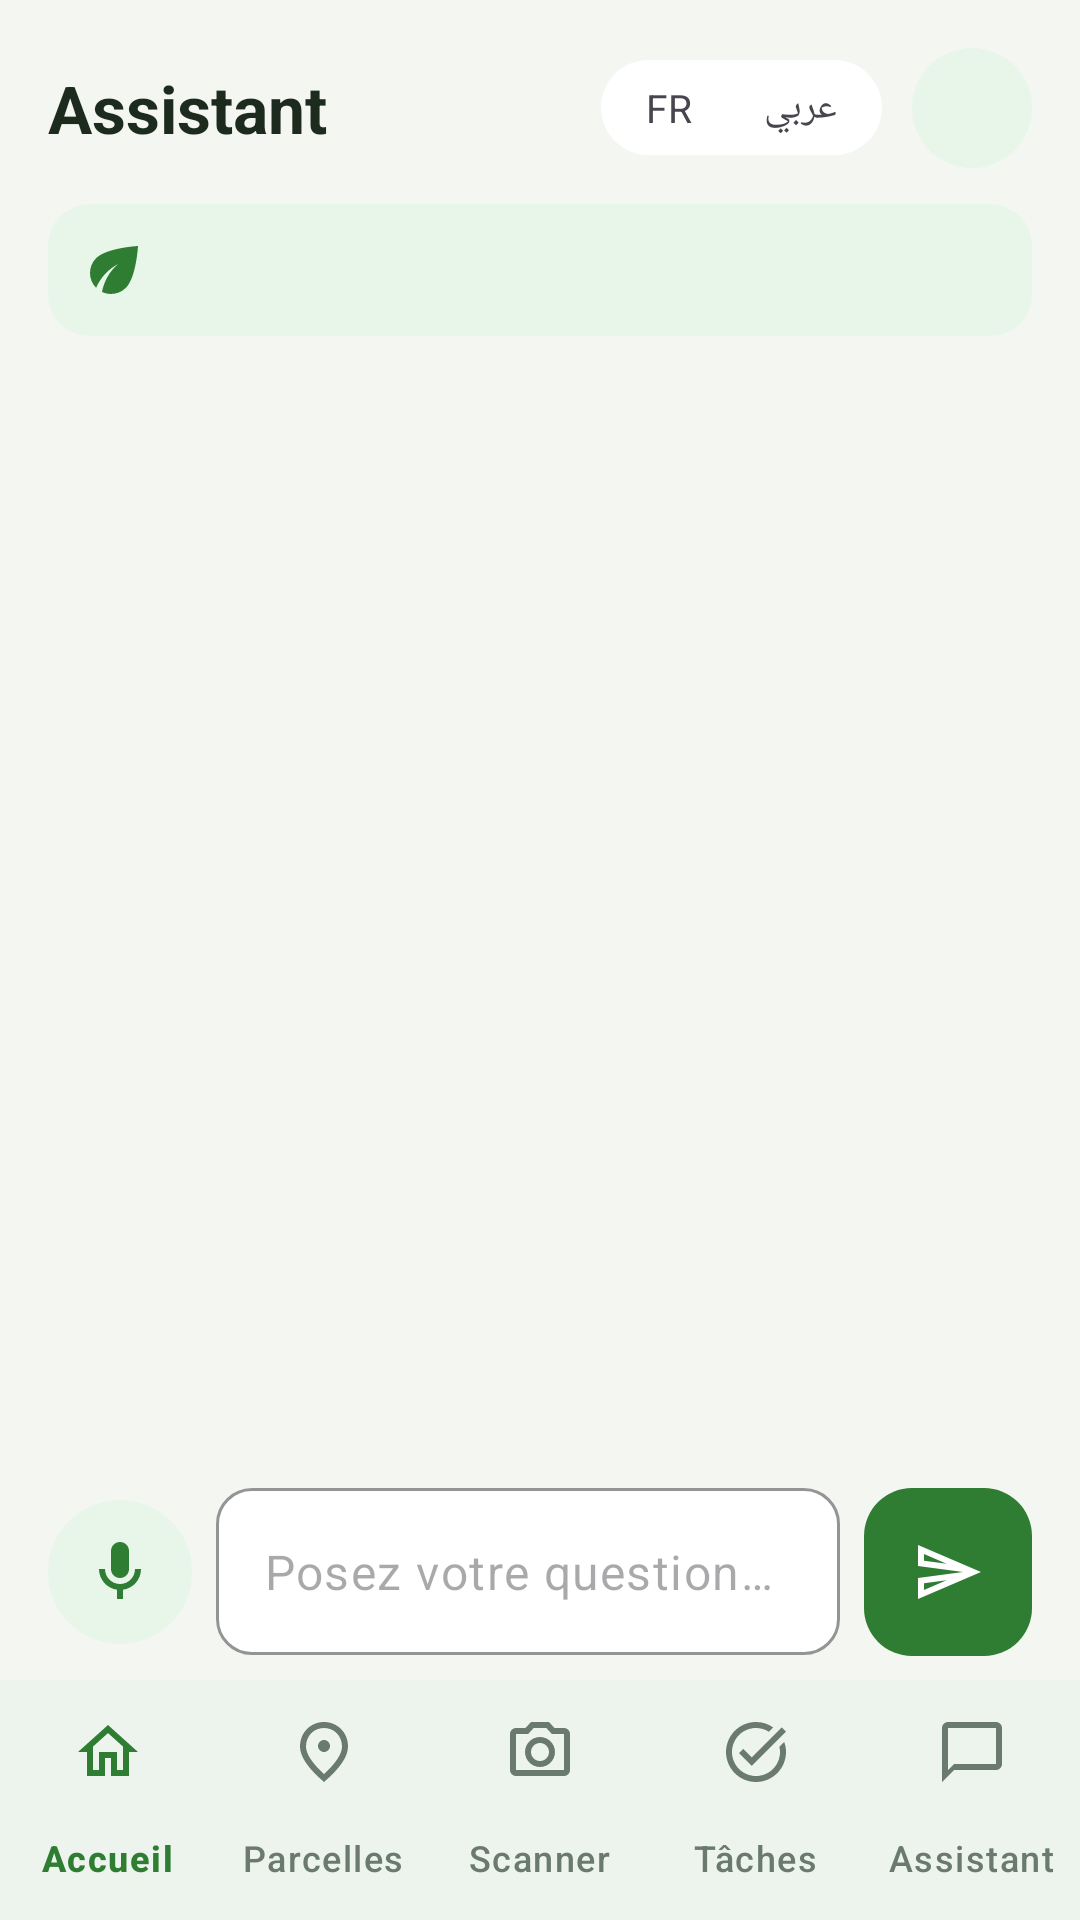

Named icons in this screenshot (1080 × 1920) and their bounding boxes, (x1, y1, x2, y2):
Envoyer: (864, 1488, 1032, 1656)
Parler: (48, 1500, 192, 1644)
